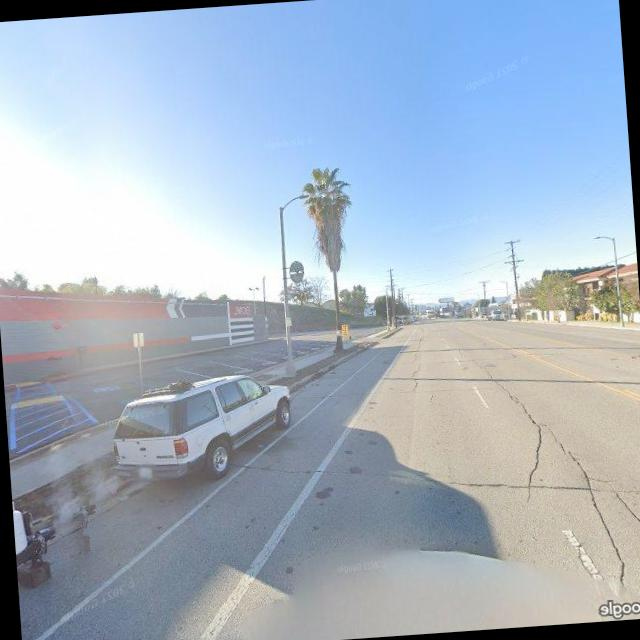crack: (233, 427, 640, 531), (476, 351, 638, 582)
